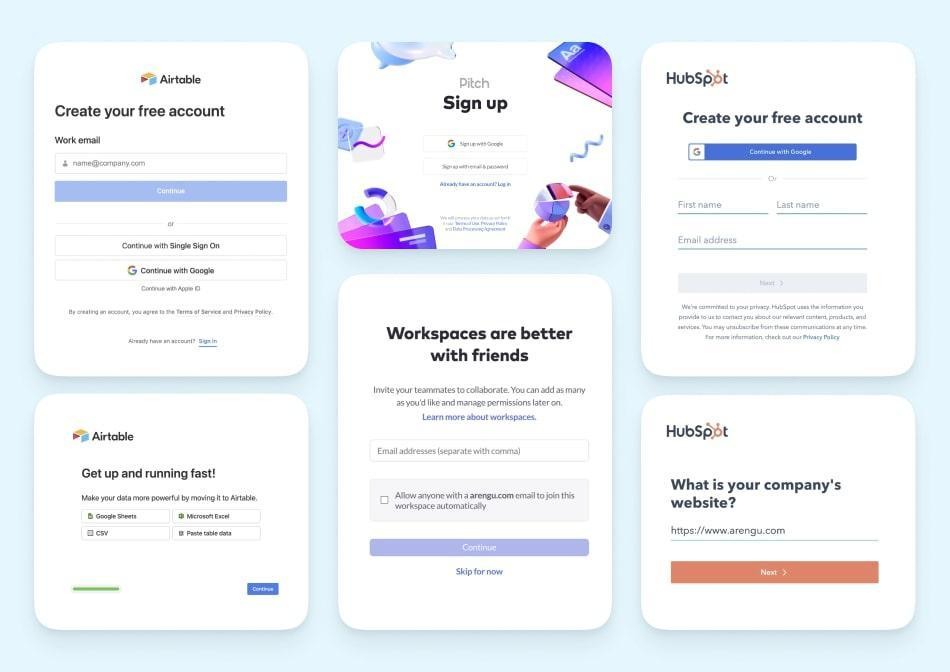button: (54, 258, 289, 282), (55, 181, 289, 205), (670, 560, 882, 586), (55, 235, 289, 258), (679, 273, 869, 295), (370, 539, 590, 557), (688, 143, 858, 163), (423, 135, 529, 154), (423, 159, 531, 177), (173, 508, 262, 525), (81, 526, 172, 542), (172, 526, 262, 542), (82, 509, 171, 525), (246, 583, 281, 597)
checkbox: (380, 495, 391, 507)
input: (369, 438, 593, 465), (55, 153, 289, 174)
label: (393, 491, 578, 514), (56, 104, 230, 118), (82, 495, 261, 502), (56, 136, 102, 148)
